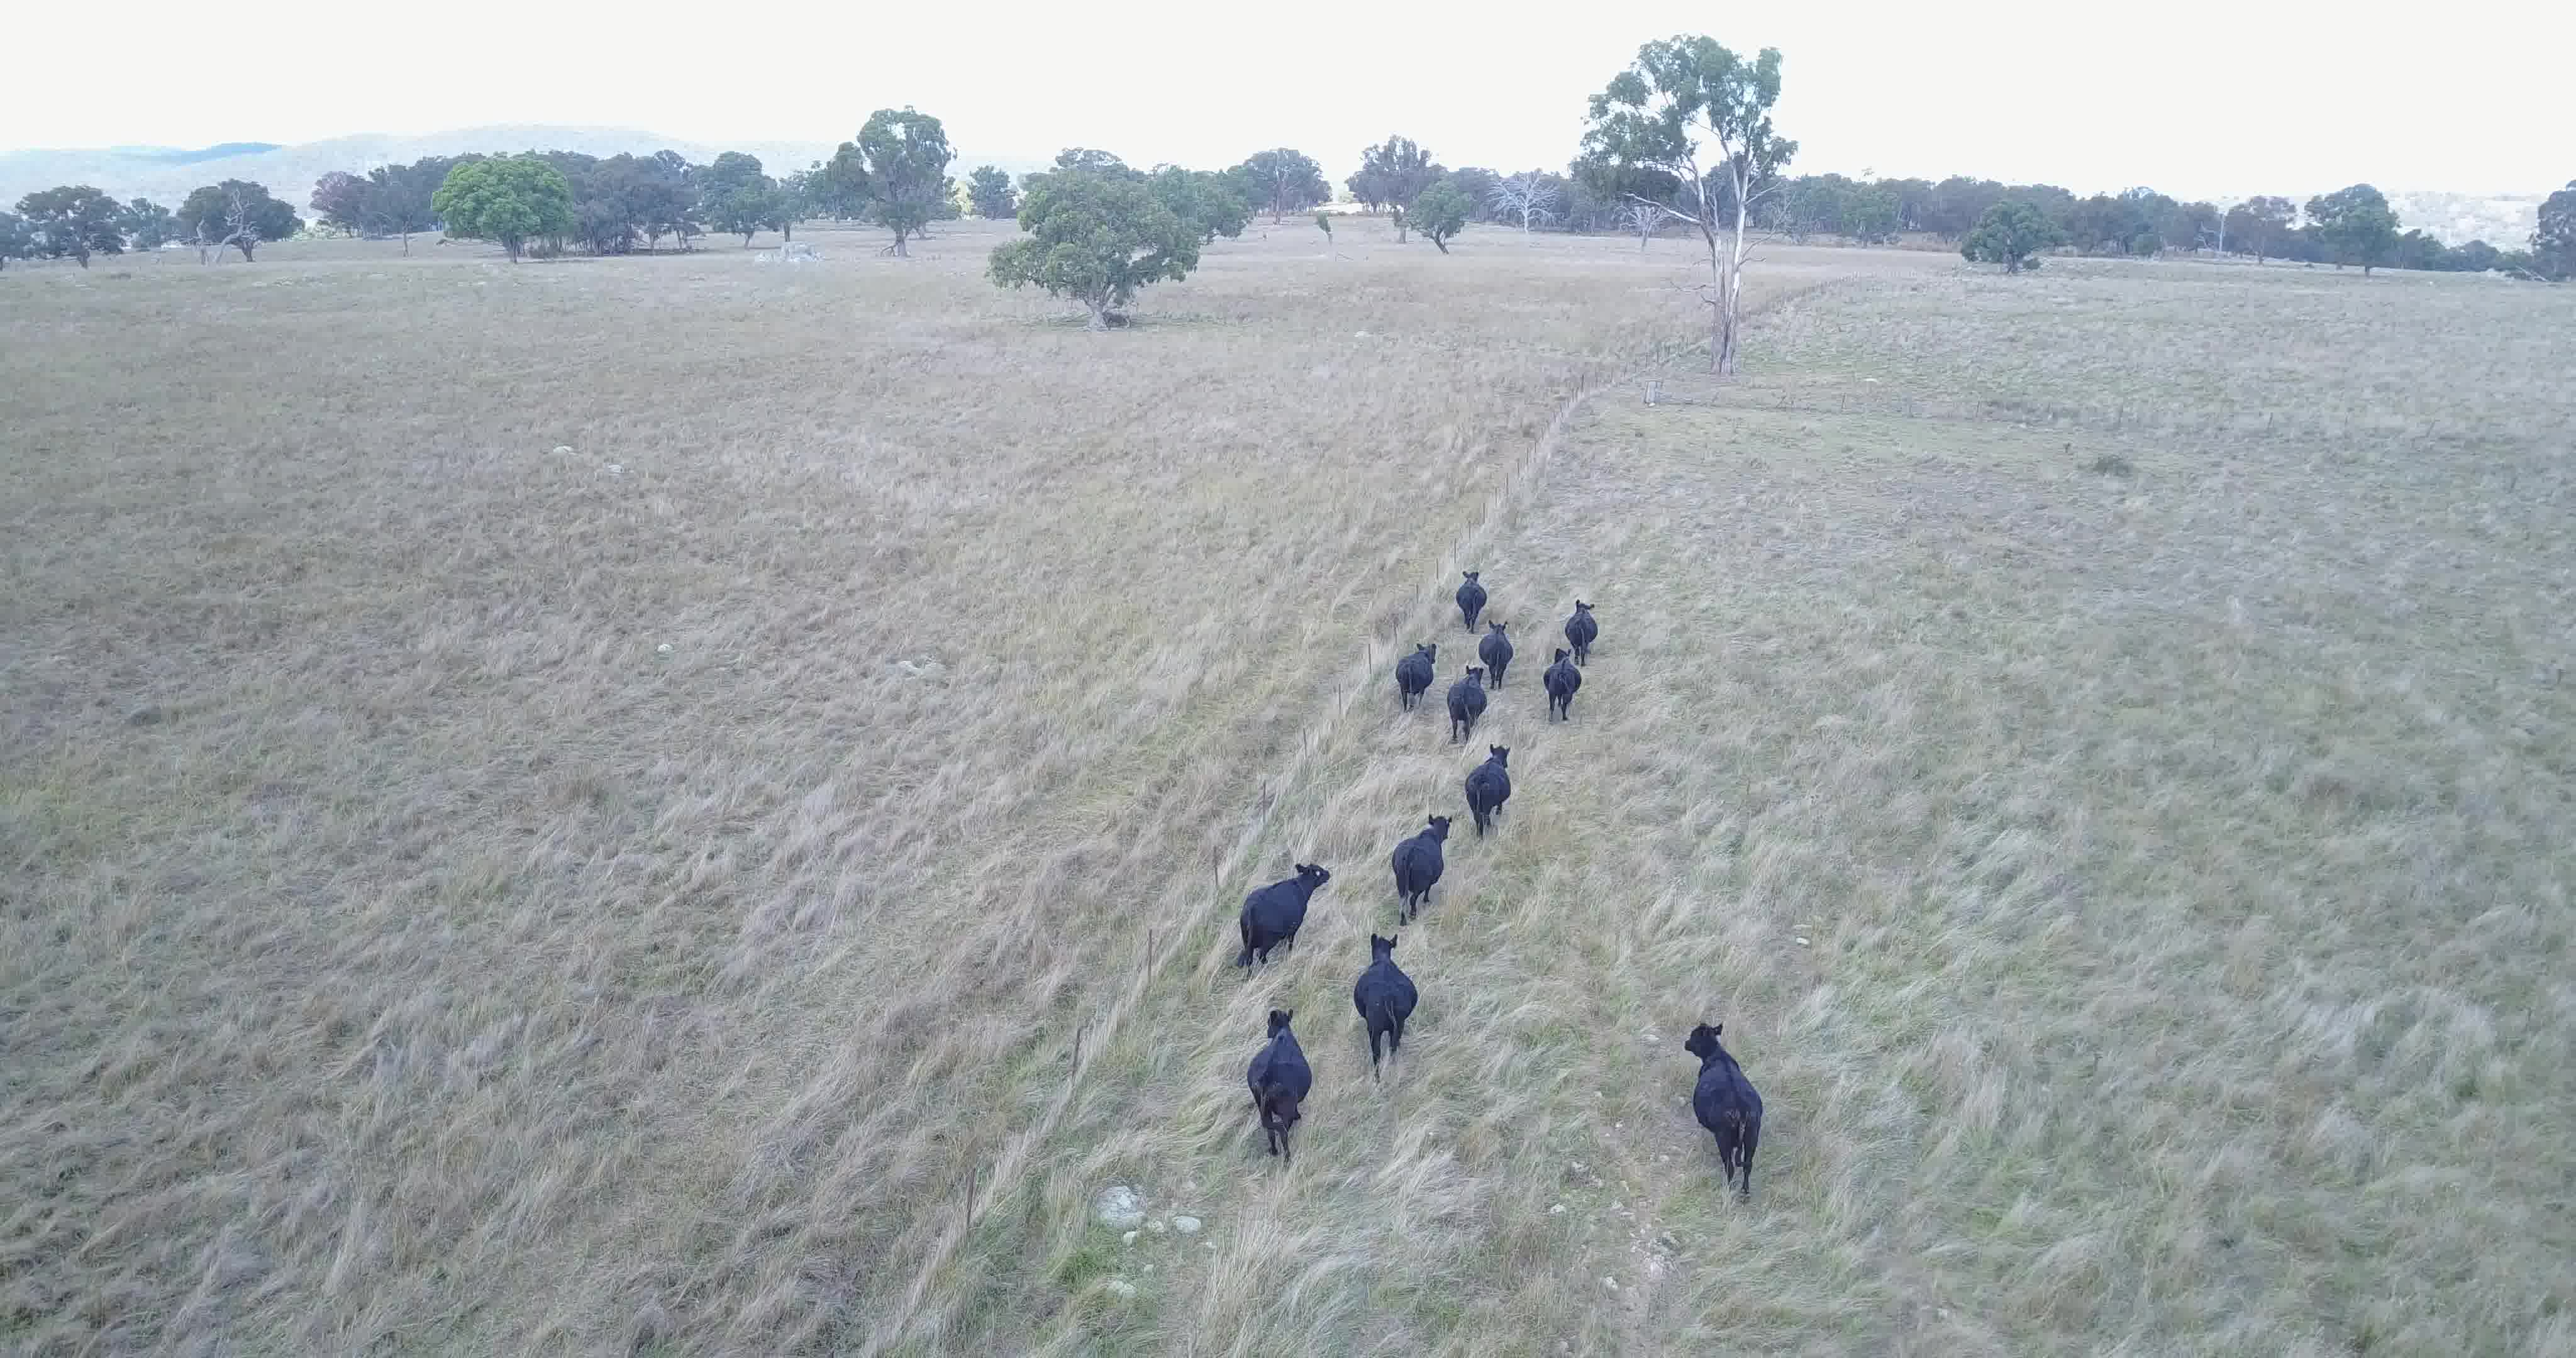cattle: (1682, 1016, 1765, 1205), (1233, 859, 1332, 981), (1348, 930, 1421, 1090), (1245, 1009, 1314, 1164), (1387, 809, 1457, 929), (1463, 741, 1516, 845), (1538, 646, 1583, 728), (1445, 665, 1487, 741), (1395, 641, 1438, 712), (1477, 620, 1516, 688), (1564, 598, 1600, 659), (1455, 567, 1489, 630)
